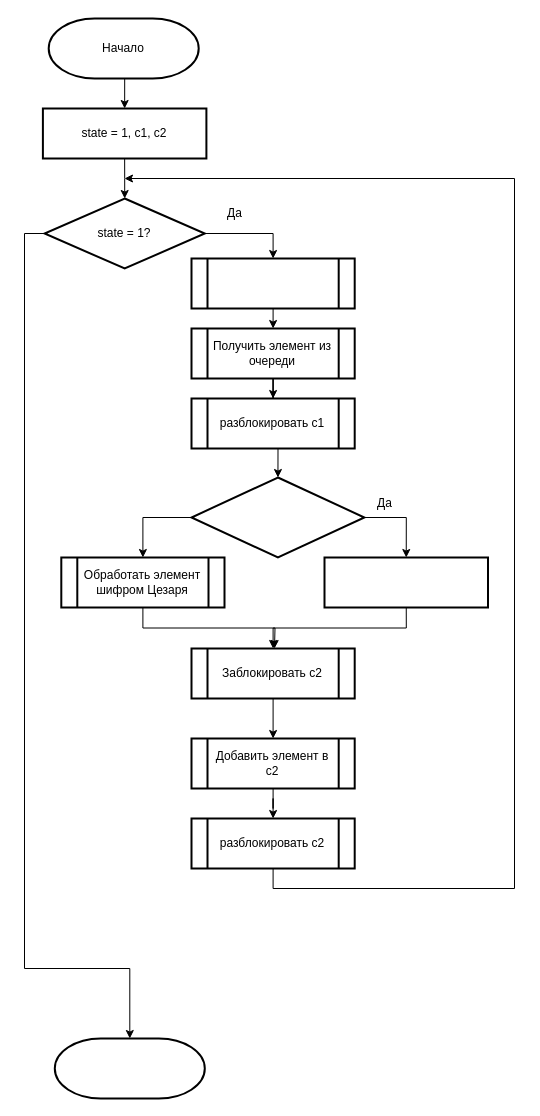
This 540x1116 diagram has some shape labels left out. Here are the shapes that lost their labels. From the top down, the centre of each, then its label:
pixel 272 283: Заблокировать c1
pixel 277 517: Полученный элемент последний?
pixel 405 582: state = 0
pixel 129 1068: Конец
